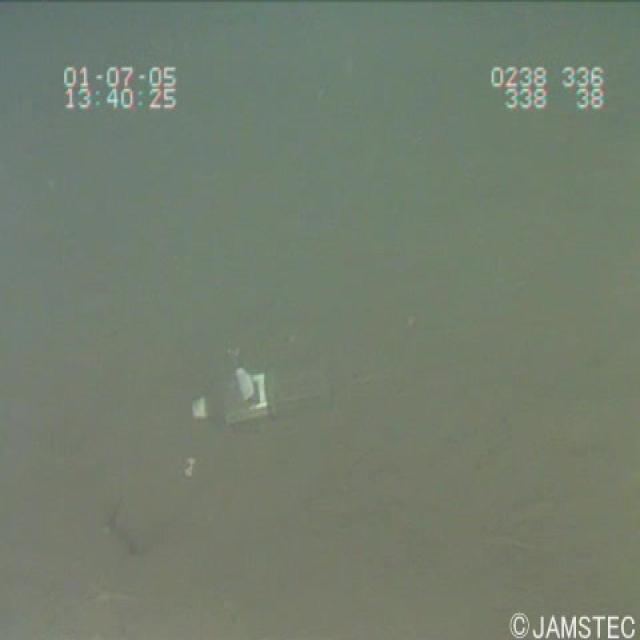plastic: (181, 352, 347, 446)
